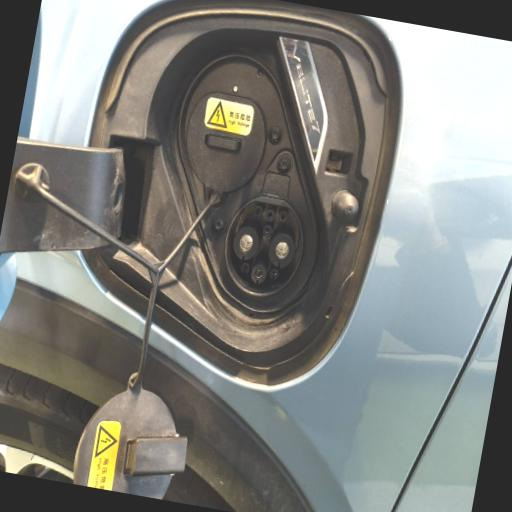DC_hole: (264, 228, 298, 272), (229, 222, 262, 262)
PE: (248, 262, 268, 285)
charging_port: (215, 186, 313, 304)
